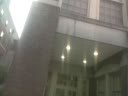window: (107, 62, 128, 96), (105, 16, 125, 46), (4, 71, 20, 95), (70, 22, 86, 44), (35, 73, 51, 94), (43, 24, 56, 48)
